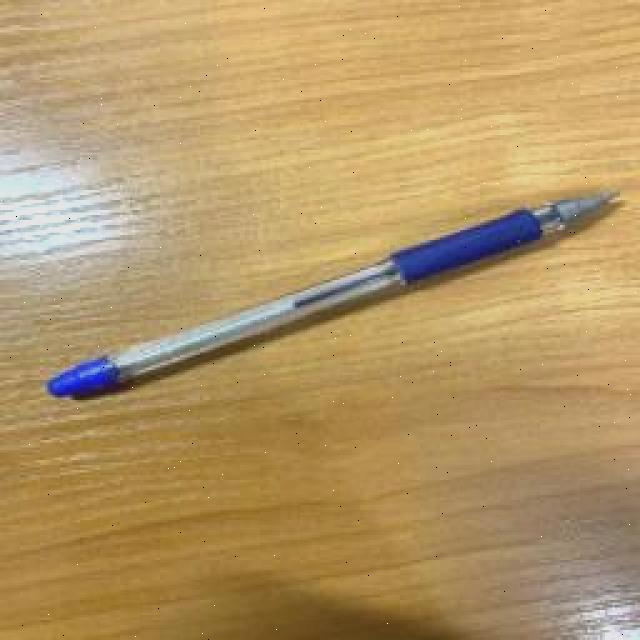pen: (40, 188, 622, 402)
